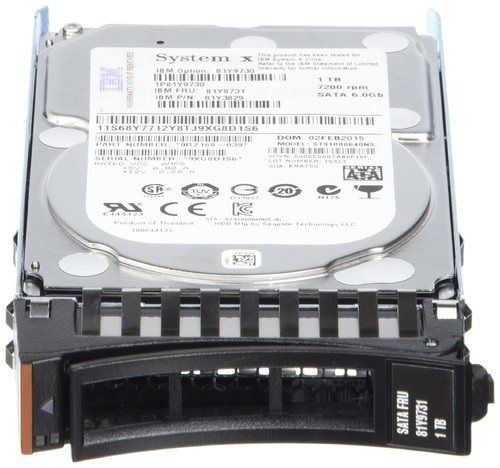2.5" Hard Drive: (1, 1, 497, 466)
SATA Hard Drive: (382, 358, 462, 456)
